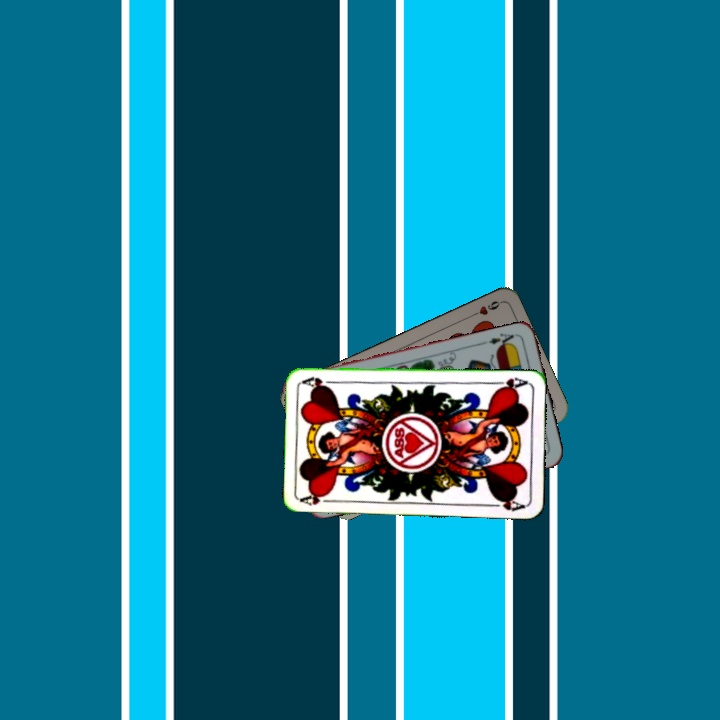EA: (480, 329, 520, 351)
H9: (466, 297, 504, 320)
HA: (489, 373, 529, 393), (298, 490, 339, 508)
